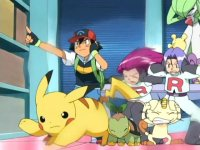gardevoir: (162, 1, 200, 51)
pikachu: (17, 72, 141, 146)
